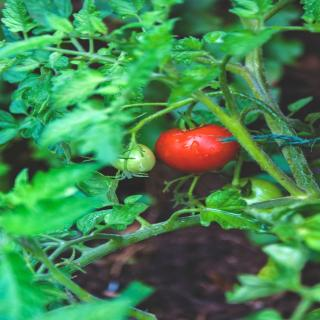tomato: (156, 112, 242, 174), (110, 140, 158, 173)
